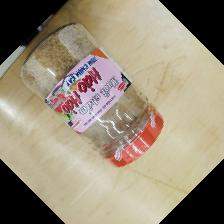Hao_hao: (20, 22, 165, 167)
